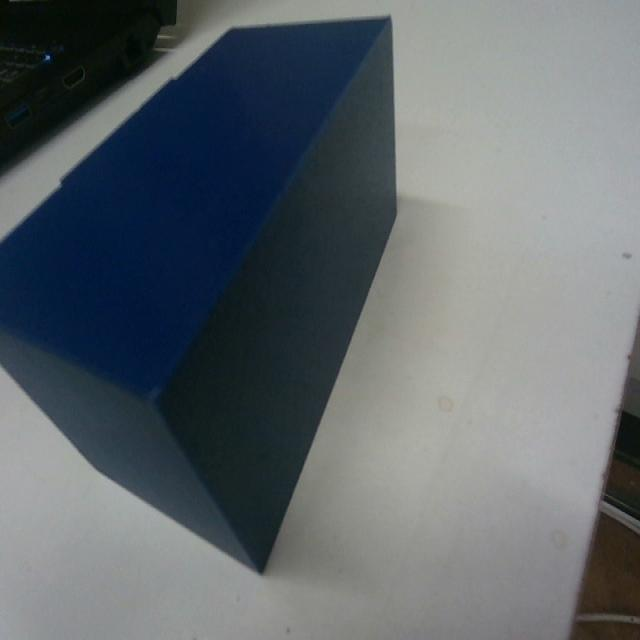Blue Cuboid: (0, 12, 400, 573)
